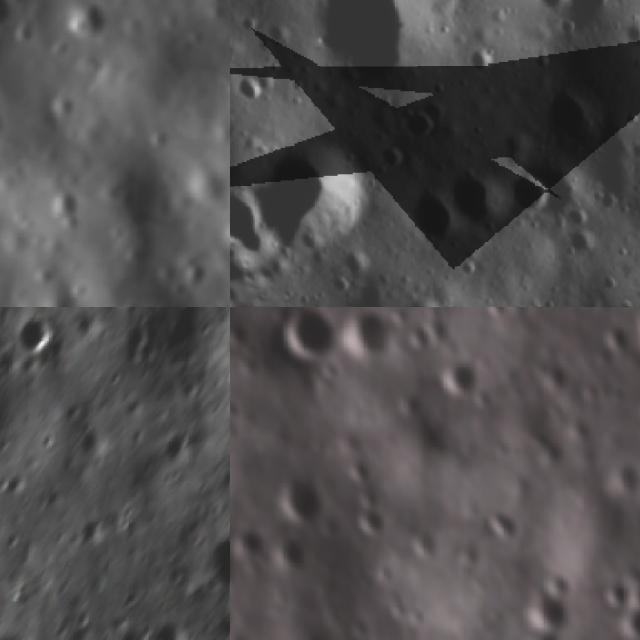crater: (230, 107, 394, 279), (283, 0, 457, 112), (397, 171, 475, 253), (440, 158, 514, 234), (536, 80, 602, 148), (495, 157, 560, 222), (8, 307, 71, 365), (339, 307, 395, 359), (391, 92, 443, 144), (278, 468, 323, 527), (279, 307, 333, 356), (40, 80, 90, 132), (524, 578, 570, 632), (61, 0, 119, 42), (596, 448, 640, 499), (204, 520, 230, 601), (385, 279, 457, 307), (156, 422, 196, 470), (486, 502, 524, 548), (316, 288, 404, 307), (438, 357, 477, 397), (613, 5, 640, 62), (0, 87, 23, 149), (270, 534, 305, 574), (412, 522, 447, 562), (0, 0, 28, 44), (349, 508, 393, 536), (147, 612, 190, 640), (600, 322, 633, 358), (402, 314, 433, 348), (603, 574, 629, 612), (616, 599, 640, 640), (0, 290, 53, 307), (519, 0, 578, 14), (207, 606, 230, 640), (111, 622, 153, 640), (195, 0, 230, 16), (230, 393, 244, 416), (479, 307, 512, 315)
